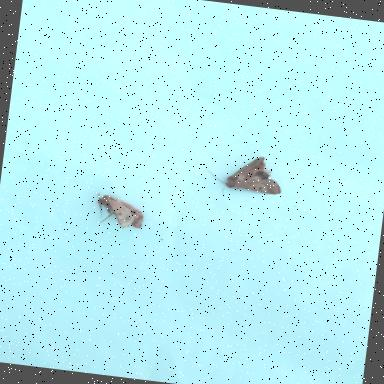abw: (201, 148, 286, 206), (81, 186, 157, 237)
